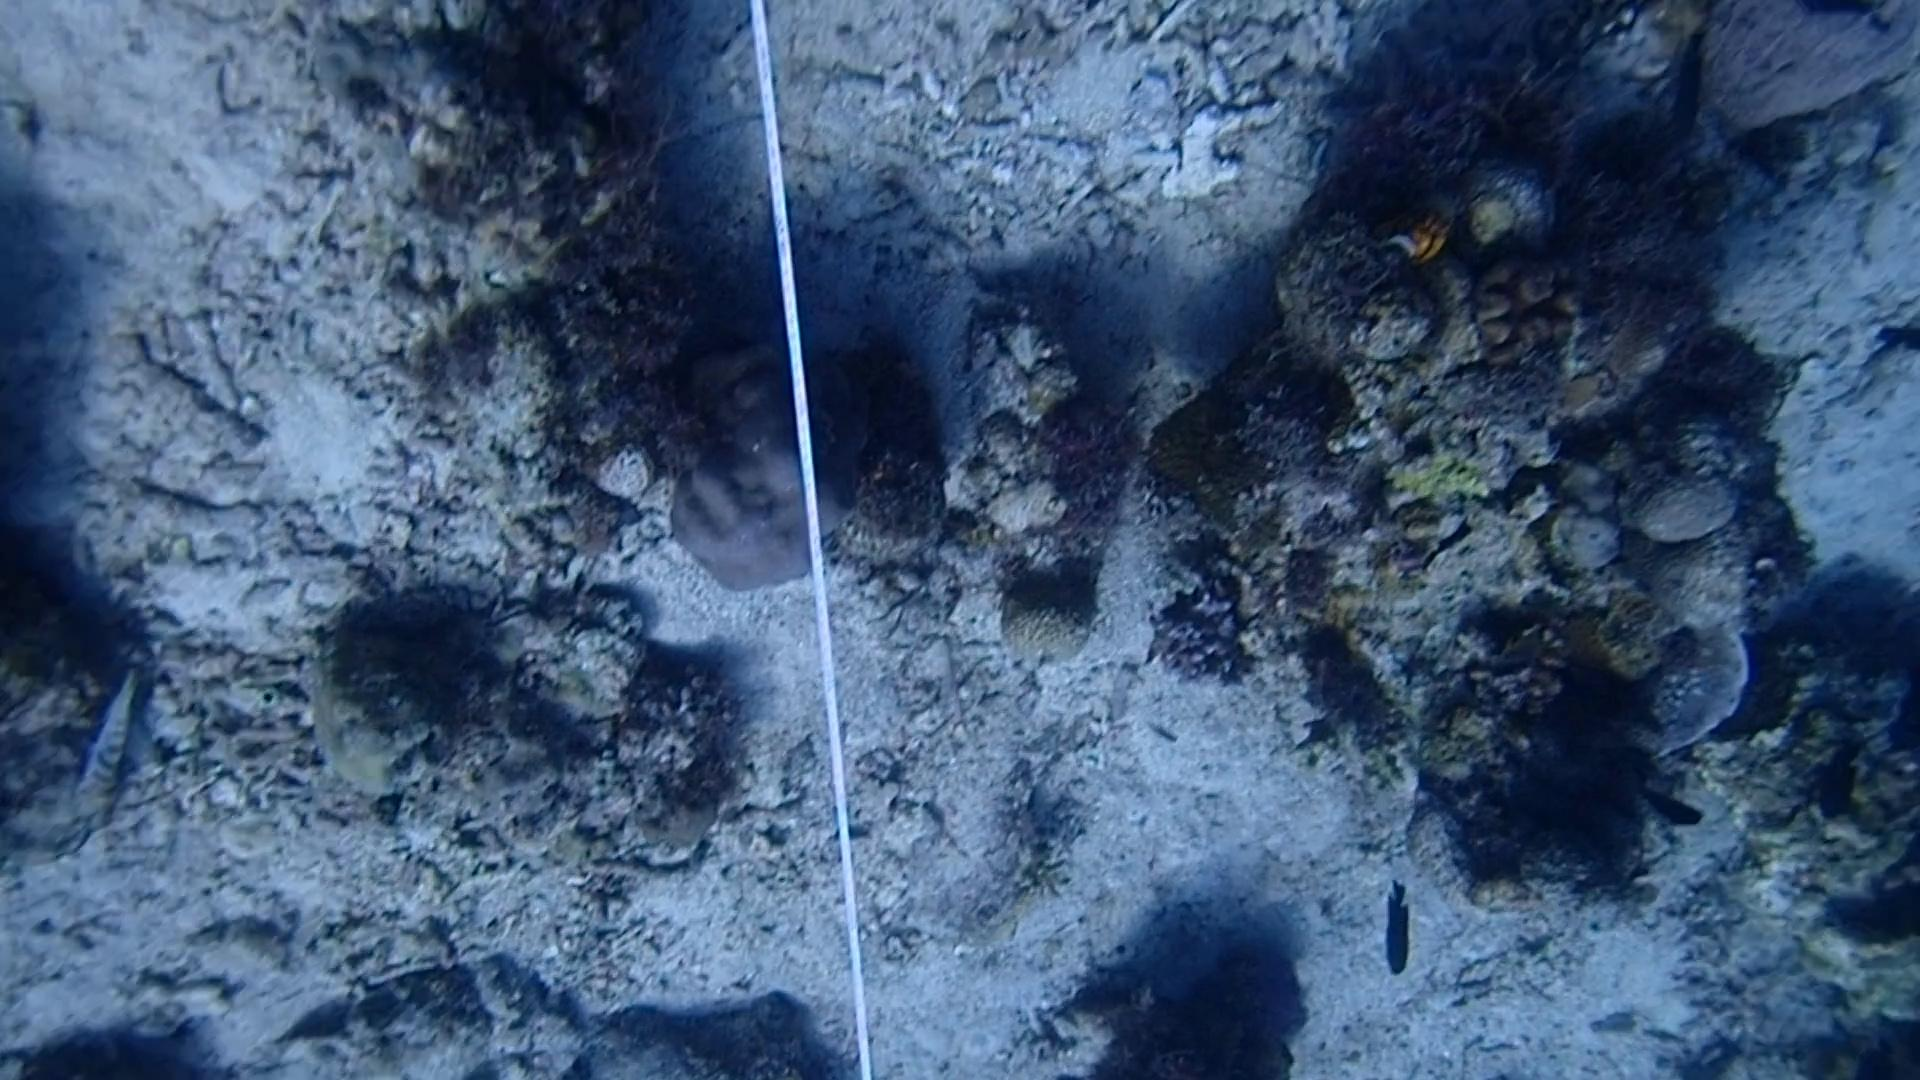Dark Fish: (1648, 20, 1727, 149), (1800, 740, 1879, 833), (1364, 884, 1428, 988), (1631, 773, 1714, 841)
Light Fish w Back Stripes: (41, 654, 157, 829)
